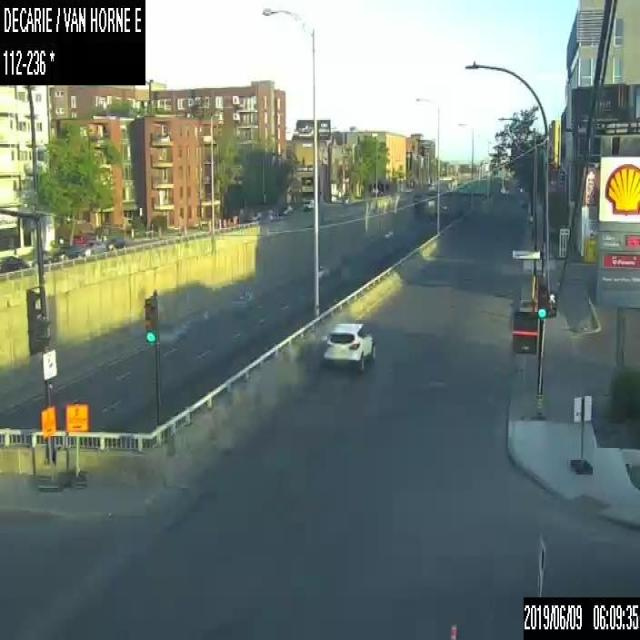construction: (569, 392, 593, 472), (65, 400, 87, 487), (38, 403, 58, 490), (450, 620, 458, 638)
vehicle: (321, 321, 375, 369), (0, 256, 28, 272), (80, 240, 104, 254), (105, 237, 126, 250), (318, 264, 328, 279), (302, 198, 314, 210), (279, 204, 292, 213)
